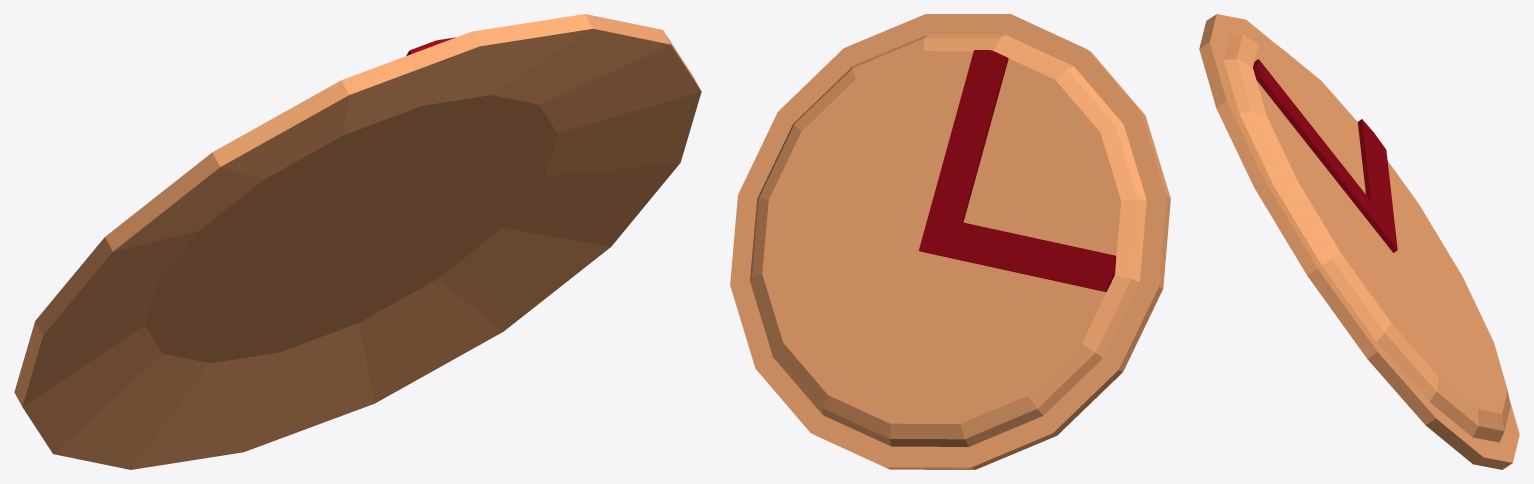
The model's file is SparSheild1.fbx.
3 renders of one model, left to right at view 1: azimuth 30°, elevation 25°; view 2: azimuth 150°, elevation 25°; view 3: azimuth 270°, elevation 25°, orthographic. The views are drawn at different scales.
Visible parts, largest first — view 1: Shield; view 2: Shield; view 3: Shield.
Part boxes in pixels (bbox=[...]): Shield: bbox=[14, 14, 701, 469]; Shield: bbox=[730, 14, 1170, 469]; Shield: bbox=[1199, 14, 1519, 469].
Bounding box in the file's own units: 213 × 177 × 127.
